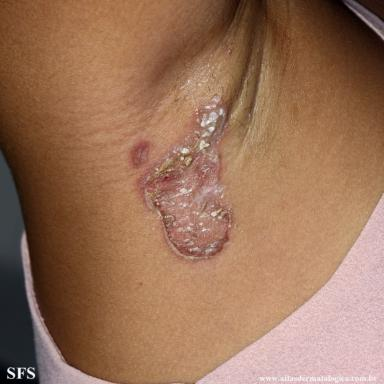Impetigo: (136, 96, 235, 262), (131, 138, 151, 167)
